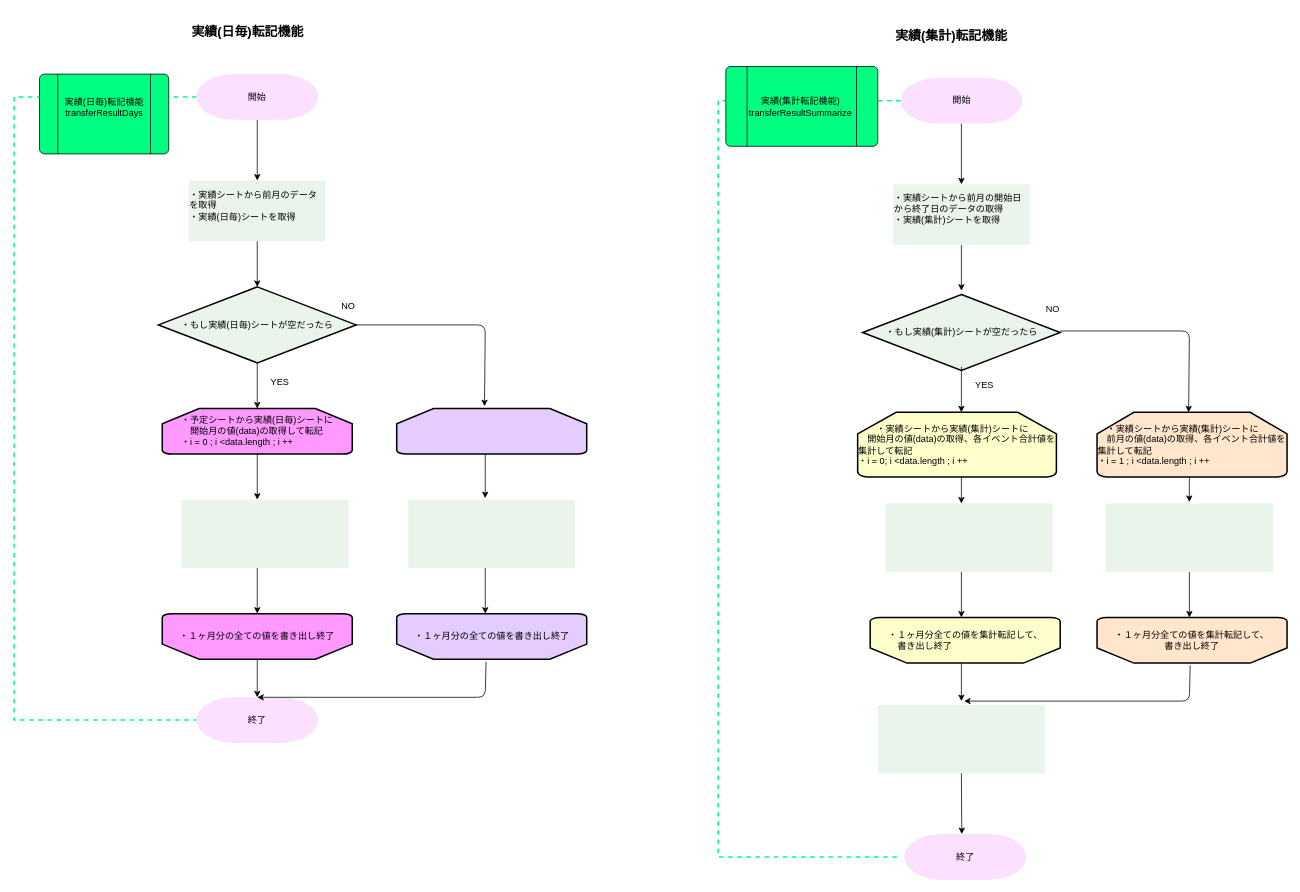
The diagram is 1300 pixels wide and 892 high, and some of its shapes have lost their labels. The centre of each missing label's shape, as x and y in pixels:
・前月の続きから記入 ・１列目に区分１の転記 ・２列目に区分２の転記 ・３列目にイベント合計時間の集計 ・４列目以降に日付毎のイベント時間 ・次の行に移動: the point at 491,533
・前月の続きから記入 ・１列目に区分１の転記 ・２列目に区分２の転記 ・３列目にイベント合計時間の集計 ・４列目以降に月毎のイベント時間 ・次の行に移動: the point at 1189,537
・実績シートから実績(日毎)シートに 前月の値(data)の取得して転記 ・i = 1 ; i <data.length ; i ++: the point at 491,430
・転記元の実績シートから、前月の１ヶ月分の予定を削除する。: the point at 961,739
・１列目に区分１の転記 ・２列目に区分２の転記 ・３列目にイベント合計時間の集計 ・４列目以降に日付毎のイベント時間 ・次の行に移動: the point at 264,533
・１列目に区分１の転記 ・２列目に区分２の転記 ・３列目にイベント合計時間の集計 ・４列目以降に月毎のイベント時間: the point at 968,537
